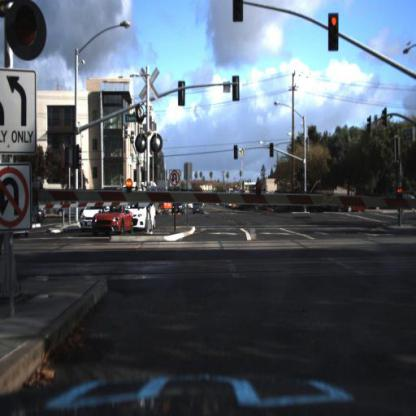car: (90, 203, 133, 236), (51, 197, 93, 223), (125, 198, 156, 232), (78, 199, 104, 231), (342, 194, 378, 217), (30, 212, 45, 233), (172, 197, 186, 218), (32, 202, 49, 215), (334, 199, 346, 216), (193, 199, 204, 215), (173, 202, 185, 214)
pedestrian: (396, 185, 406, 227)
trafficLight: (1, 1, 69, 66), (12, 3, 44, 55), (324, 9, 345, 58), (233, 138, 243, 164), (234, 2, 245, 25)
trafficLight-Red: (329, 14, 340, 52), (234, 144, 239, 161), (271, 142, 275, 158)
